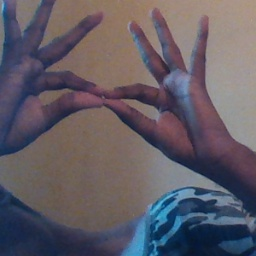B: (27, 38, 171, 155)
